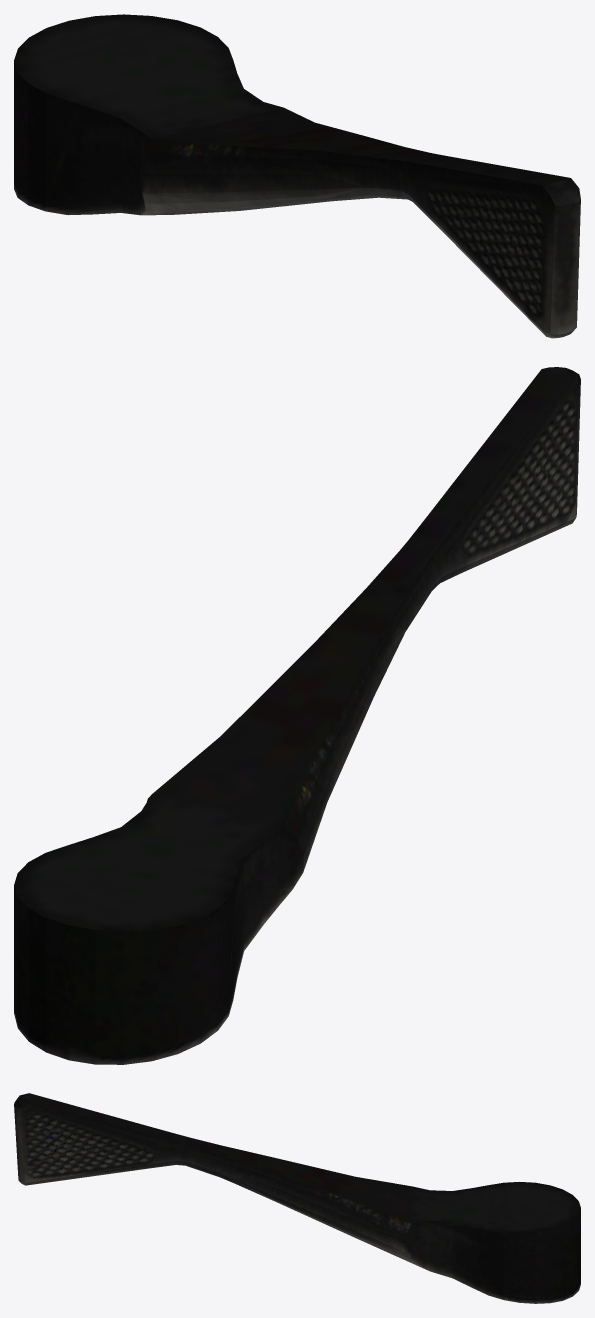
3 renders of one model, top to bottom at view 1: azimuth 30°, elevation 25°; view 2: azimuth 150°, elevation 25°; view 3: azimuth 270°, elevation 25°, orthographic. The views are drawn at different scales.
Parts seen in each view (by area): view 1: TW_5580223e4bdc2d1c128b457f_PZ_Import; view 2: TW_5580223e4bdc2d1c128b457f_PZ_Import; view 3: TW_5580223e4bdc2d1c128b457f_PZ_Import.
Boxes of the visible parts, x1=… form: TW_5580223e4bdc2d1c128b457f_PZ_Import: x1=14, y1=14, x2=580, y2=338; TW_5580223e4bdc2d1c128b457f_PZ_Import: x1=14, y1=367, x2=580, y2=1064; TW_5580223e4bdc2d1c128b457f_PZ_Import: x1=14, y1=1093, x2=580, y2=1303.
Bounding box in the file's own units: 0.00817 × 0.0374 × 0.0137.
Materials: 1 (1 with a texture image).
